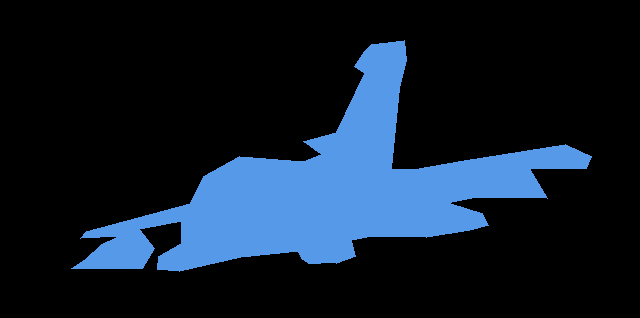Airplane: (71, 40, 592, 272)
